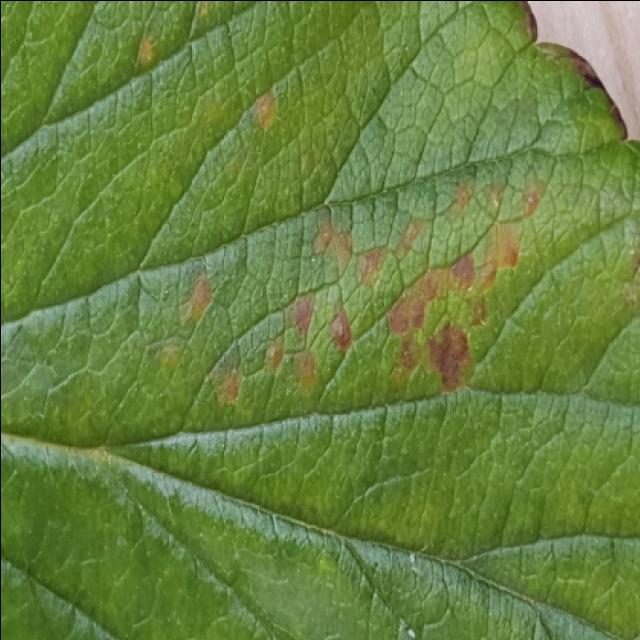Angular Leafspot: (123, 26, 552, 412)
